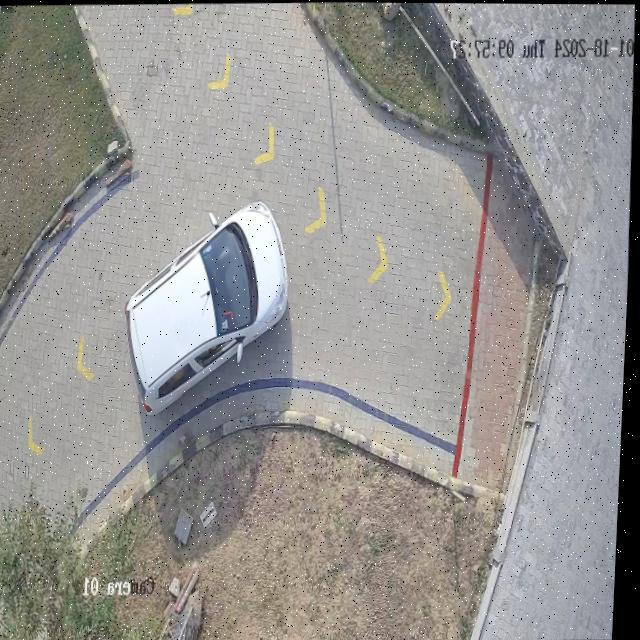car: (128, 200, 291, 414)
